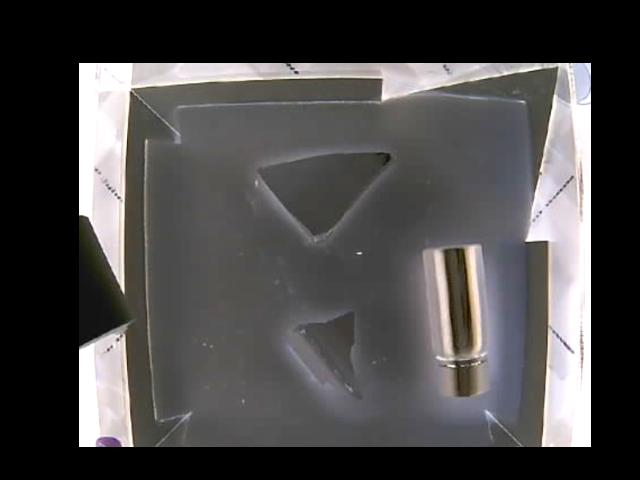Bottle: (424, 244, 488, 399)
China: (261, 151, 395, 238), (291, 307, 365, 401)
